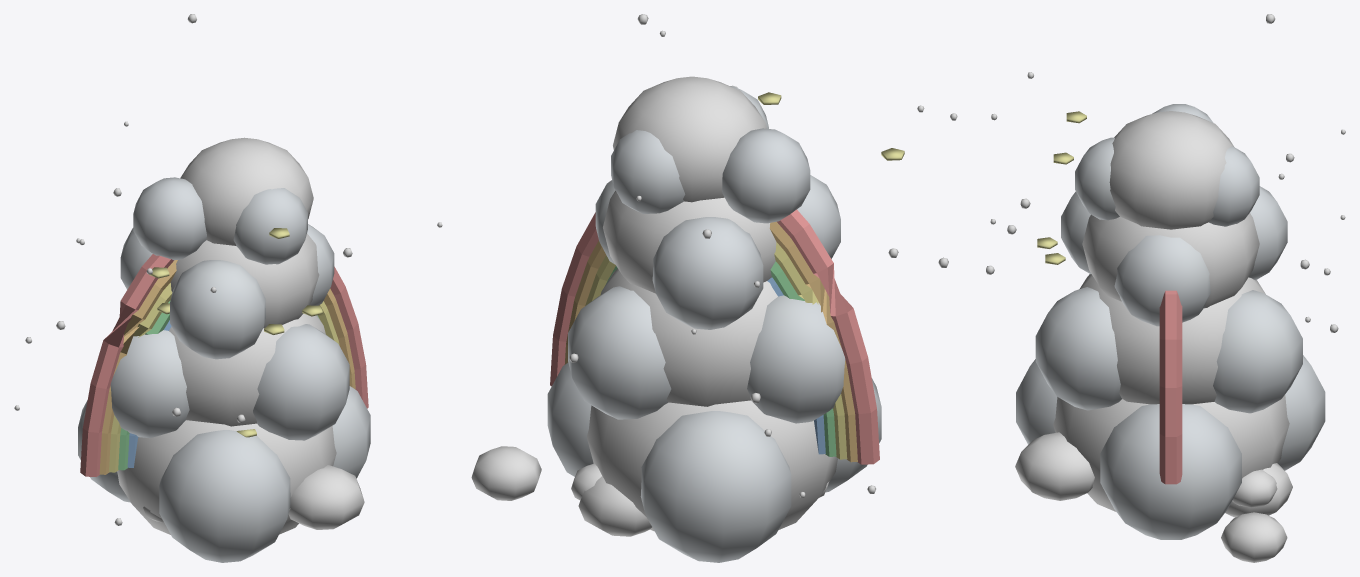
Rendered from gym_deco_sky_lite.glb.
The picture shows the model from 3 angles, left to right: view 1: azimuth 30°, elevation 25°; view 2: azimuth 150°, elevation 25°; view 3: azimuth 270°, elevation 25°; orthographic projection. The views are drawn at different scales.
Parts seen in each view (by area): view 1: Sphere; view 2: Sphere; view 3: Sphere.
Part boxes in pixels (bbox=[...]): Sphere: bbox=[14, 14, 442, 562]; Sphere: bbox=[471, 14, 957, 562]; Sphere: bbox=[986, 14, 1345, 562].
Bounding box in the file's own units: 4.71 × 6.93 × 4.46.
